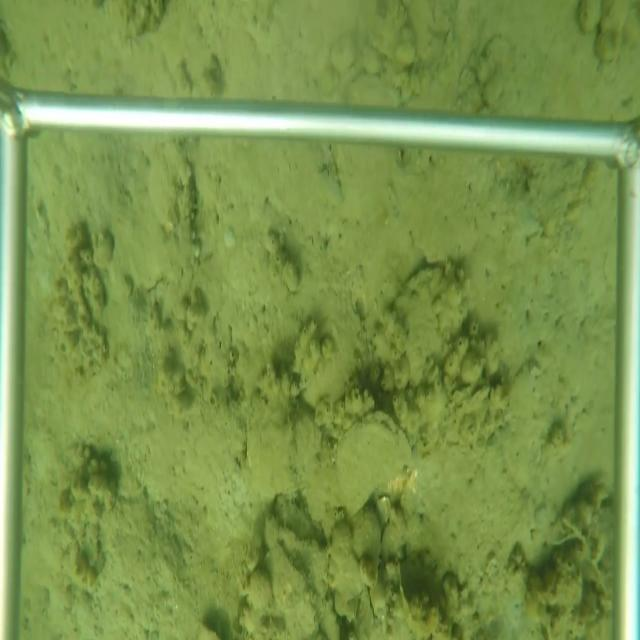Oyster-Closed: (335, 405, 416, 516)
Oyster-Indeterminate: (367, 255, 468, 384), (265, 540, 308, 611)
